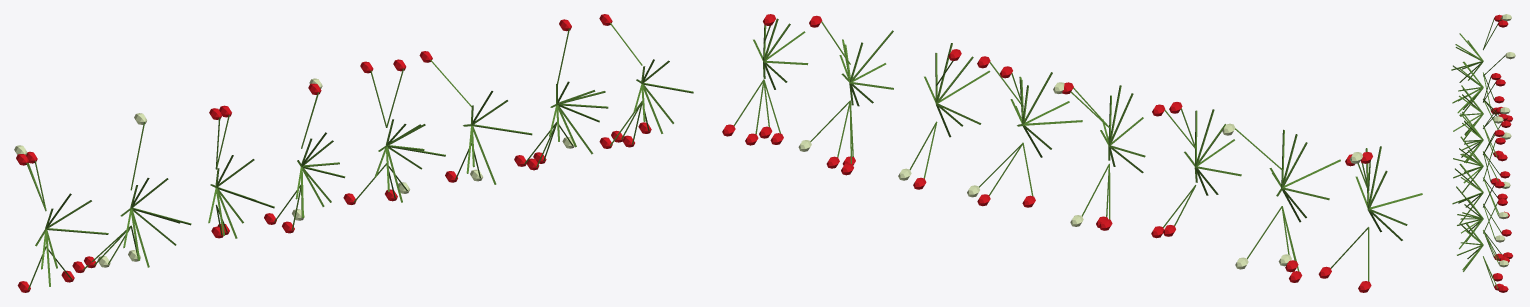
Rendered from r0c2_rest.obj.
3 renders of one model, left to right at view 1: azimuth 30°, elevation 25°; view 2: azimuth 150°, elevation 25°; view 3: azimuth 270°, elevation 25°, orthographic. The views are drawn at different scales.
Parts seen in each view (by area): view 1: r0c2_rest; view 2: r0c2_rest; view 3: r0c2_rest.
Boxes of the visible parts, x1,y1,x2,y2 form: r0c2_rest: (14,14,693,292); r0c2_rest: (722,14,1422,292); r0c2_rest: (1451,14,1515,292).
Bounding box in the file's own units: 1.94 × 0.3998 × 0.2609.
